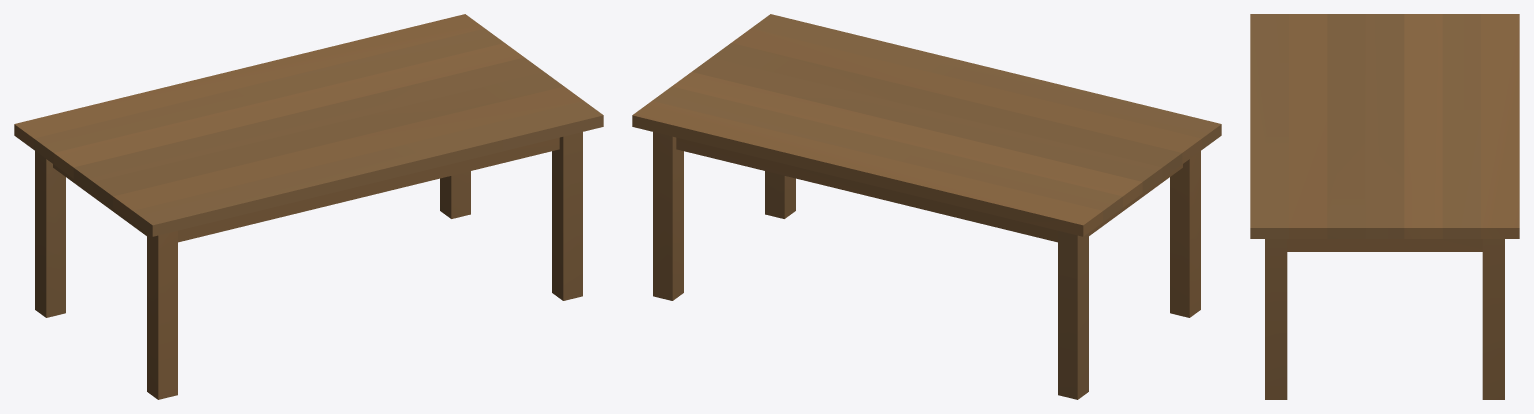
The model's file is table.dining.oak.glb.
3 renders of one model, left to right at view 1: azimuth 30°, elevation 25°; view 2: azimuth 150°, elevation 25°; view 3: azimuth 270°, elevation 25°, orthographic. The views are drawn at different scales.
Visible parts, largest first — view 1: table_dining_oak; view 2: table_dining_oak; view 3: table_dining_oak.
Part boxes in pixels (<box>): table_dining_oak: <box>14,14,603,399</box>; table_dining_oak: <box>632,14,1221,399</box>; table_dining_oak: <box>1250,14,1519,399</box>.
Size of what is drawn, in the model's own units: 2.06 by 0.8 by 1.1.
